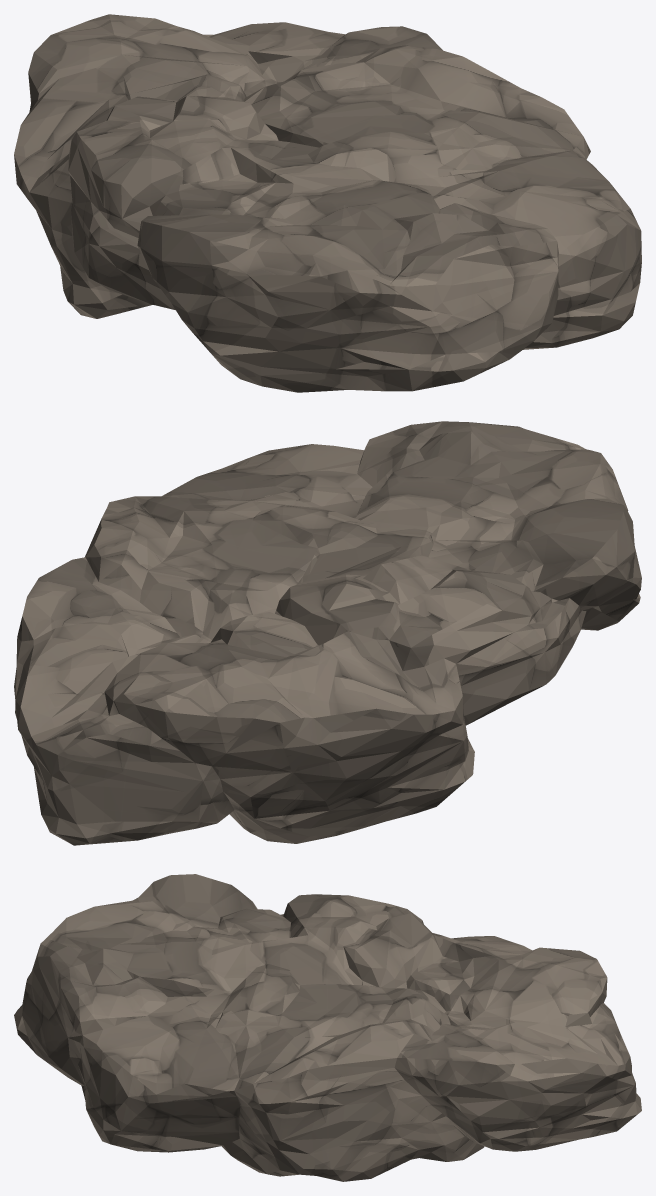
Rendered from synty-rock-cluster-large-02.gltf.
3 views of the same model, one above another, from view 1: azimuth 30°, elevation 25°; view 2: azimuth 150°, elevation 25°; view 3: azimuth 270°, elevation 25° (orthographic). The views are drawn at different scales.
Parts seen in each view (by area): view 1: SM_Rock_Cluster_Large_02; view 2: SM_Rock_Cluster_Large_02; view 3: SM_Rock_Cluster_Large_02.
Part boxes in pixels (x1,y1,x2,y2): SM_Rock_Cluster_Large_02: (14,14,641,392); SM_Rock_Cluster_Large_02: (14,421,641,845); SM_Rock_Cluster_Large_02: (14,874,641,1181).
Bounding box in the file's own units: 19.47 × 8.37 × 28.64.
1 material, 1 textured.
